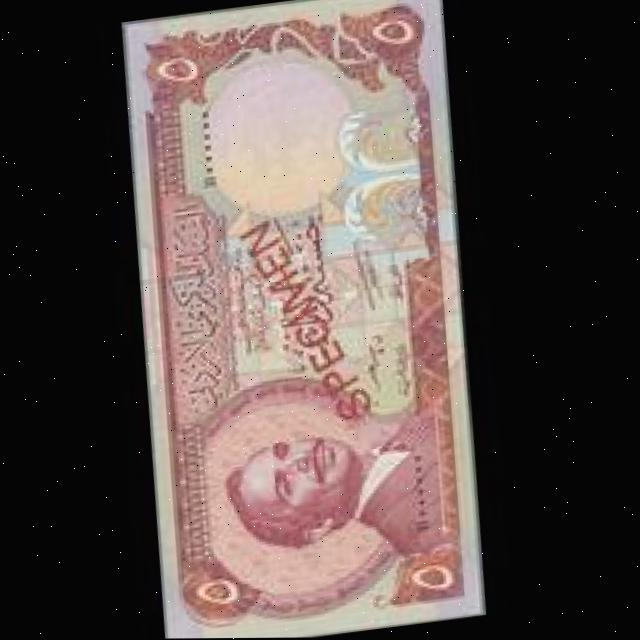banknote: (93, 0, 514, 639)
